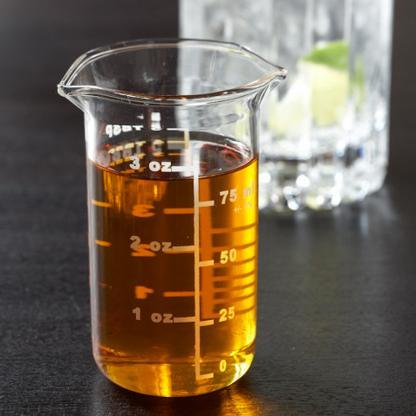Beaker: (46, 2, 334, 396)
